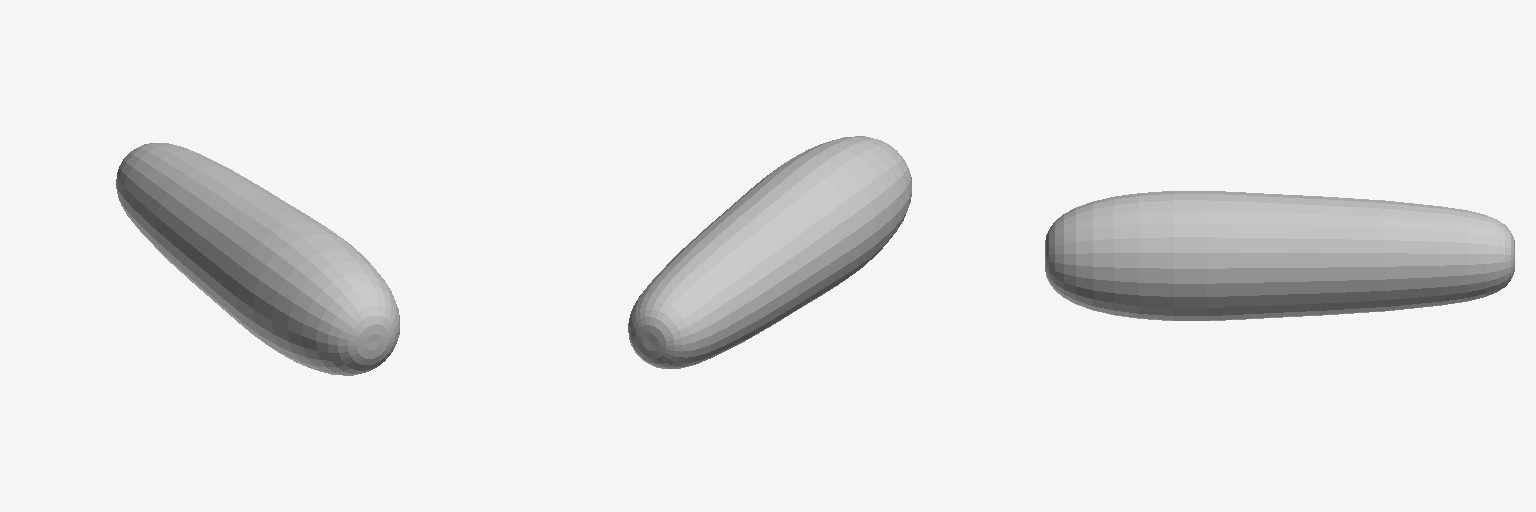
File: thigh.obj
The picture shows the model from 3 angles: view 1: azimuth 30°, elevation 25°; view 2: azimuth 150°, elevation 25°; view 3: azimuth 270°, elevation 25°; orthographic projection.
Visible parts, largest first — view 1: Object__0; view 2: Object__0; view 3: Object__0.
Boxes of the visible parts, x1,y1,x2,y2 form: Object__0: [116, 143, 399, 375]; Object__0: [628, 136, 911, 368]; Object__0: [1045, 191, 1514, 320].
Bounding box in the file's own units: 0.1088 × 0.108 × 0.3906.